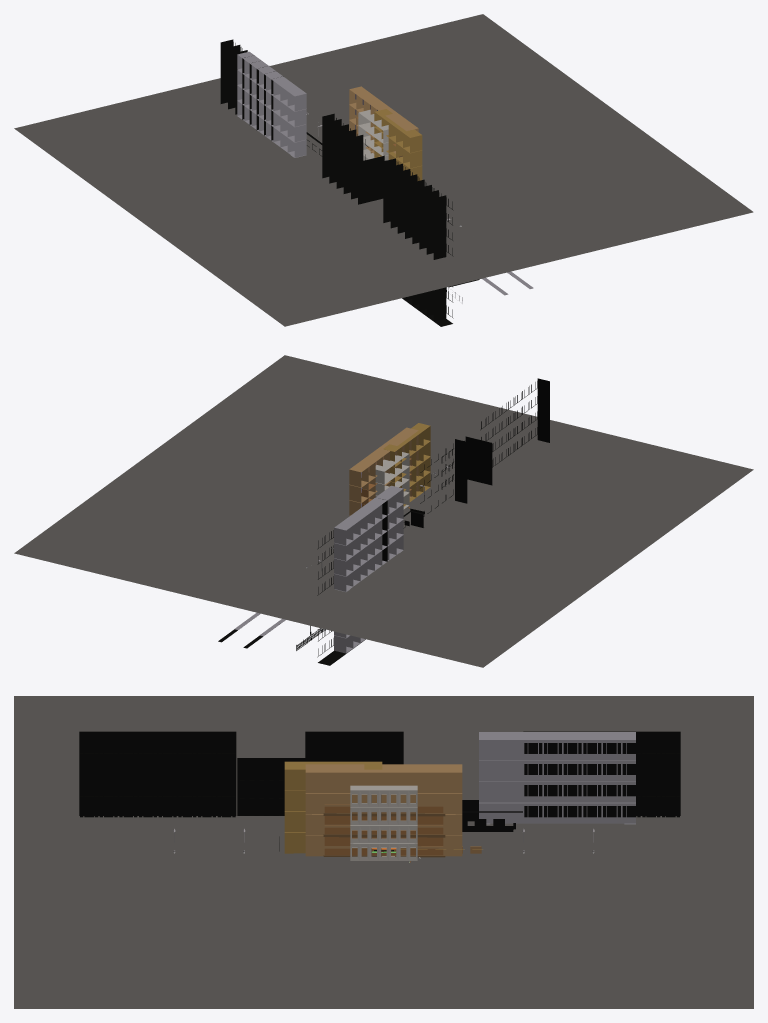
Rendered from Chad_Cafe.glb.
The picture shows the model from 3 angles, top to bottom: view 1: azimuth 30°, elevation 25°; view 2: azimuth 150°, elevation 25°; view 3: azimuth 270°, elevation 25°; orthographic projection. The views are drawn at different scales.
Visible parts, largest first — view 1: Plane, Plane_2, Plane_1, Plane_25, Plane_27, Plane_23; view 2: Plane, Plane_1, Plane_2, Plane_27, Plane_25, Plane_23; view 3: Plane, Plane_2, Plane_1, Plane_27, Plane_23, Plane_29, Plane_25, Plane_30.
Part boxes in pixels (x1,y1,x2,y2): Plane: [14, 14, 753, 326]; Plane_2: [220, 39, 479, 326]; Plane_1: [237, 51, 533, 303]; Plane_25: [374, 109, 422, 180]; Plane_27: [349, 86, 418, 156]; Plane_23: [358, 109, 388, 160]; Plane: [14, 355, 753, 667]; Plane_1: [234, 485, 403, 653]; Plane_2: [218, 378, 549, 665]; Plane_27: [349, 427, 418, 516]; Plane_25: [383, 423, 430, 506]; Plane_23: [375, 452, 409, 509]; Plane: [14, 696, 753, 1008]; Plane_2: [79, 731, 680, 831]; Plane_1: [479, 732, 635, 824]; Plane_27: [305, 764, 462, 856]; Plane_23: [350, 785, 417, 860]; Plane_29: [324, 804, 443, 855]; Plane_25: [284, 761, 482, 853]; Plane_30: [323, 813, 445, 857].
Size of the model in its own units: 4201641 by 1057205 by 4201641.
Materials: 106 (6 with a texture image).
